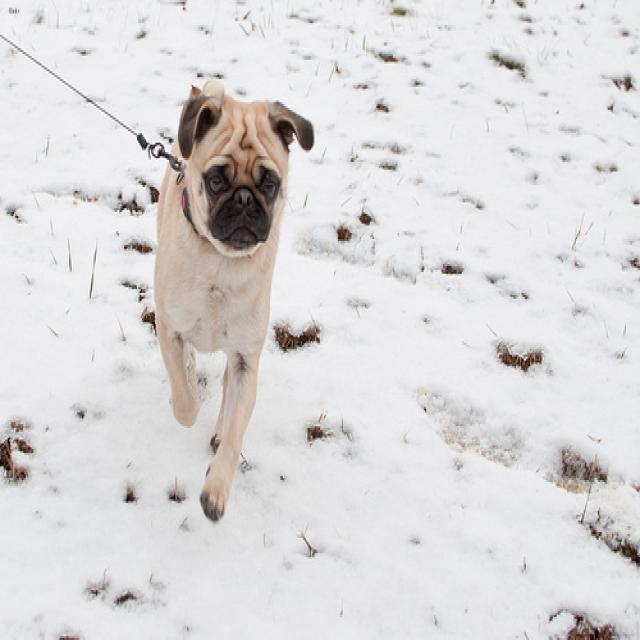dog-pug: (146, 71, 320, 532)
